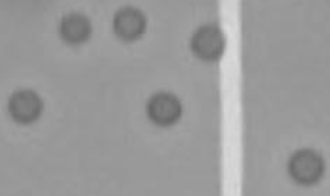cell: (4, 82, 47, 128), (283, 142, 326, 187), (185, 20, 229, 63), (142, 87, 185, 130), (107, 3, 151, 43), (55, 6, 94, 47)
